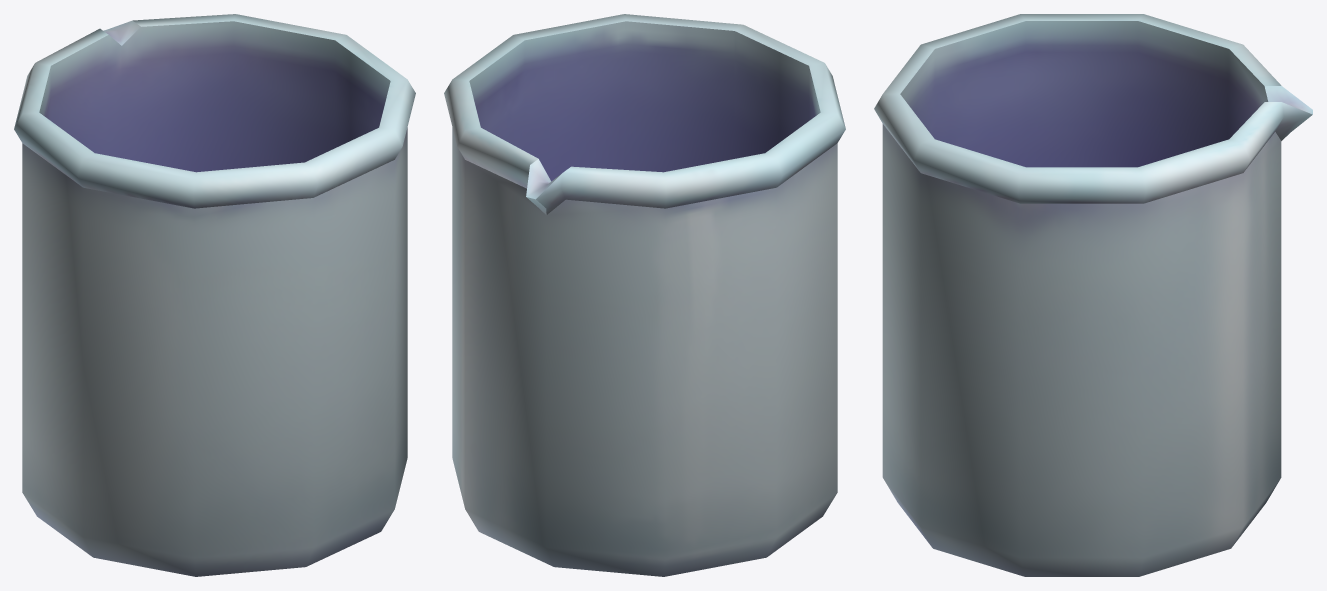
The model's file is Probeta 3.fbx.
3 renders of one model, left to right at view 1: azimuth 30°, elevation 25°; view 2: azimuth 150°, elevation 25°; view 3: azimuth 270°, elevation 25°, orthographic.
Parts seen in each view (by area): view 1: probeta 3; view 2: probeta 3; view 3: probeta 3.
Boxes of the visible parts, x1,y1,x2,y2 form: probeta 3: (14, 14, 415, 576); probeta 3: (444, 14, 845, 576); probeta 3: (874, 14, 1312, 576).
Bounding box in the file's own units: 25.57 × 29.15 × 28.37.
